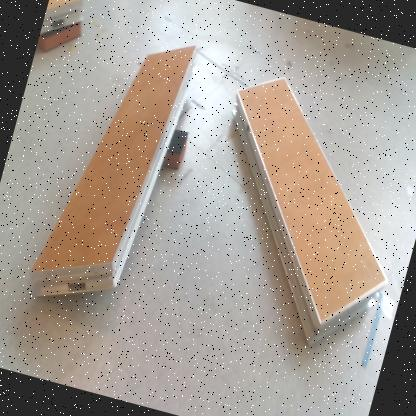Stairs: (232, 78, 389, 350), (35, 47, 199, 299), (40, 1, 83, 37)
